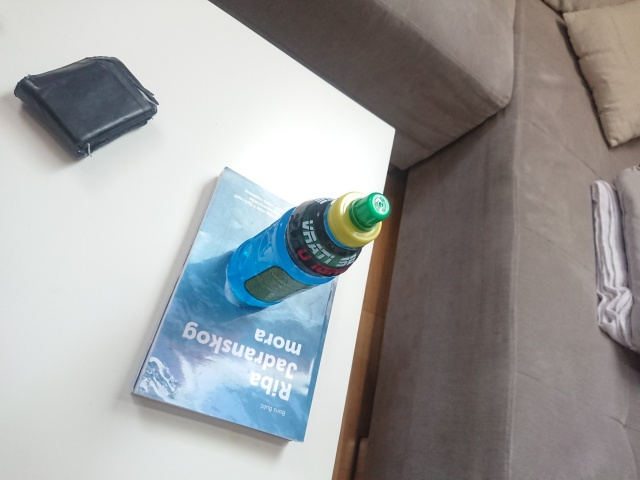Vindi Iso Sport Forest Strawberries 500mL: (224, 189, 392, 309)
